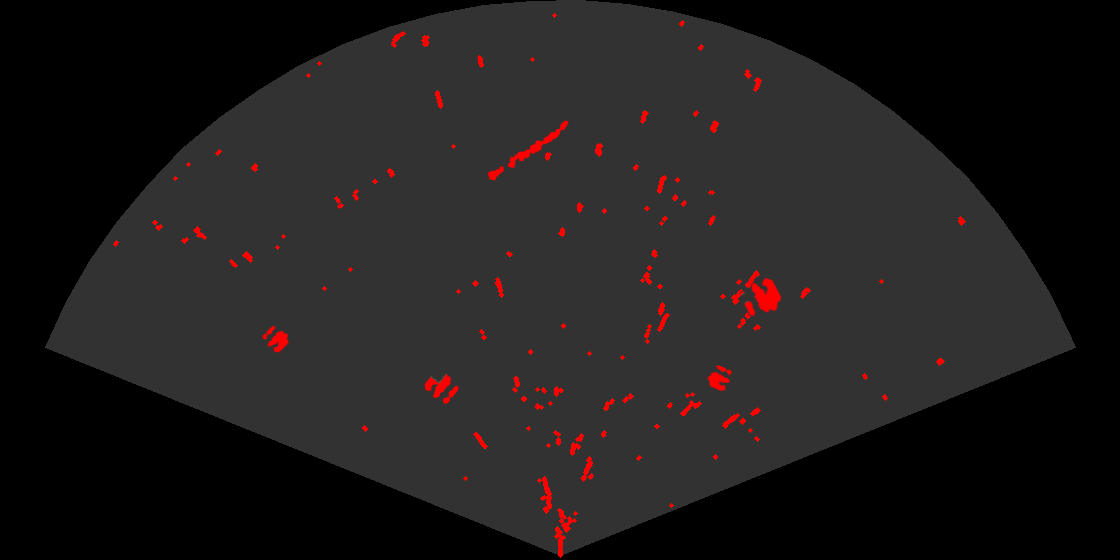ball: (739, 276, 783, 318), (423, 373, 460, 406), (260, 324, 290, 354), (706, 364, 734, 393)
chain: (486, 119, 570, 182)
